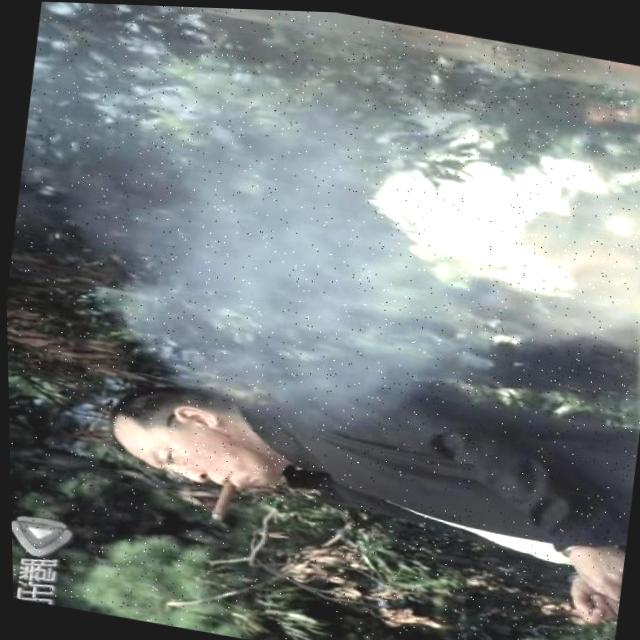no_helmet: (143, 4, 640, 453)
